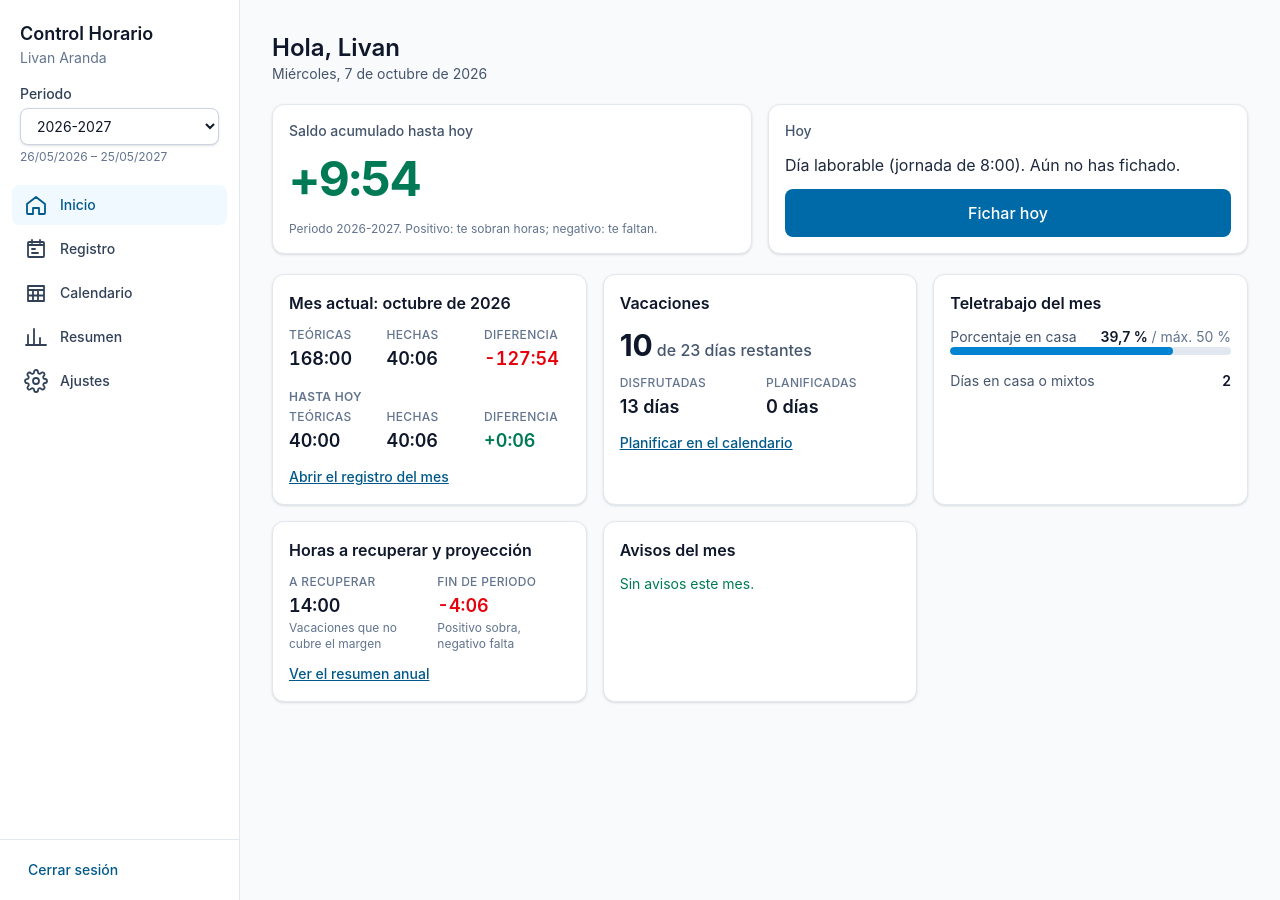
Test: Inicio › "Fichar hoy" abre el editor del día de hoy
Click the button "Fichar hoy".
click(1008, 213)  # box [785,189,1231,237]
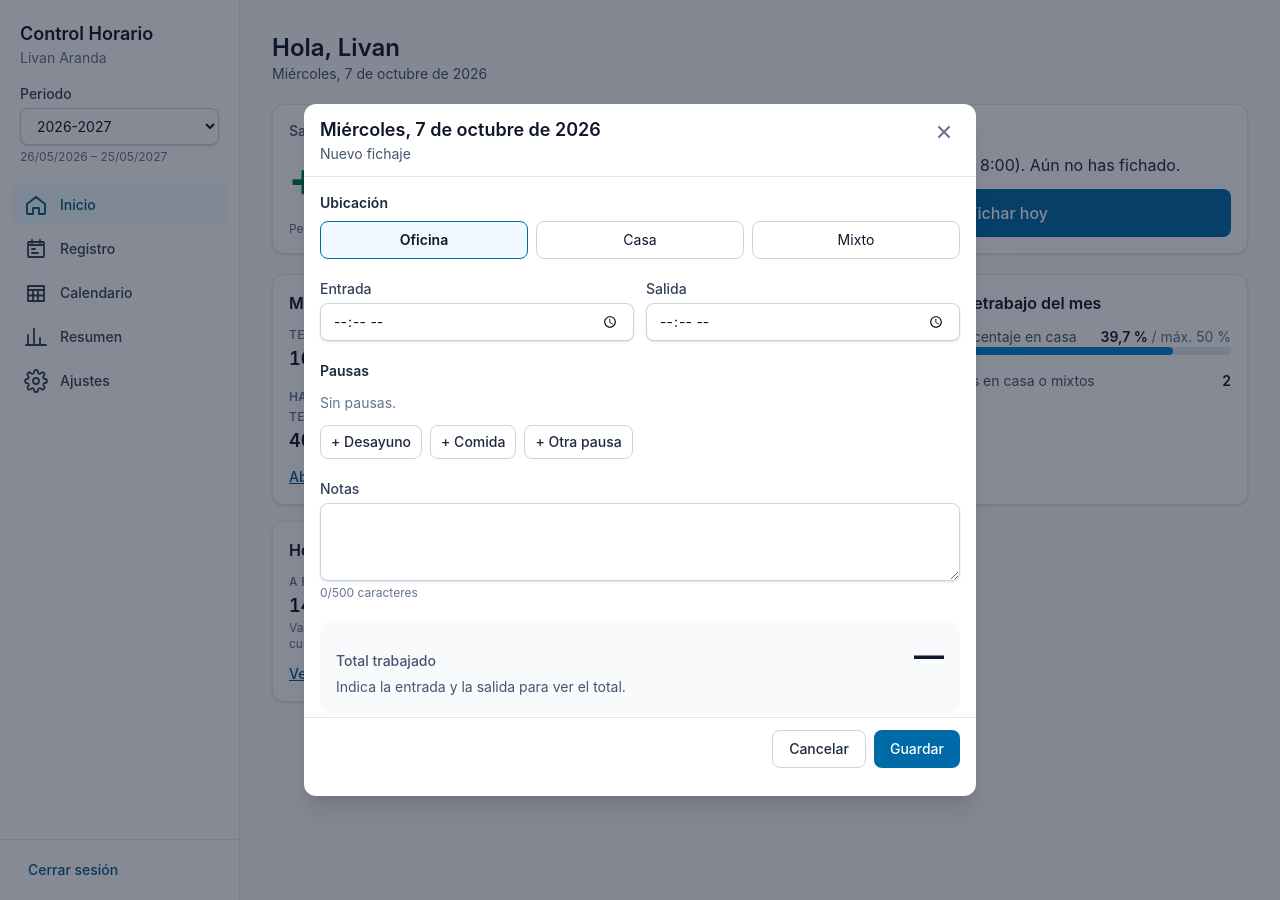
Expected: the text "Nuevo fichaje" is shown, [320,145,411,162]
Expected: the time field labelled "Entrada" is shown, [320,303,634,341]
